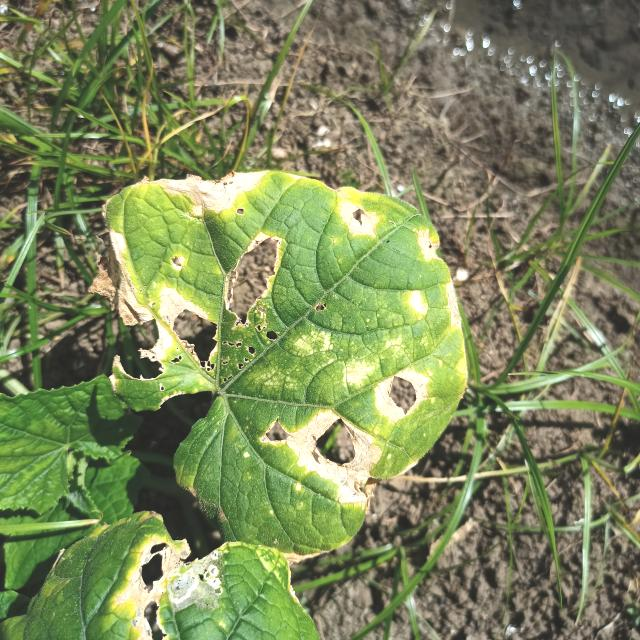disease_cucumber: (99, 174, 462, 509), (115, 533, 198, 640)
